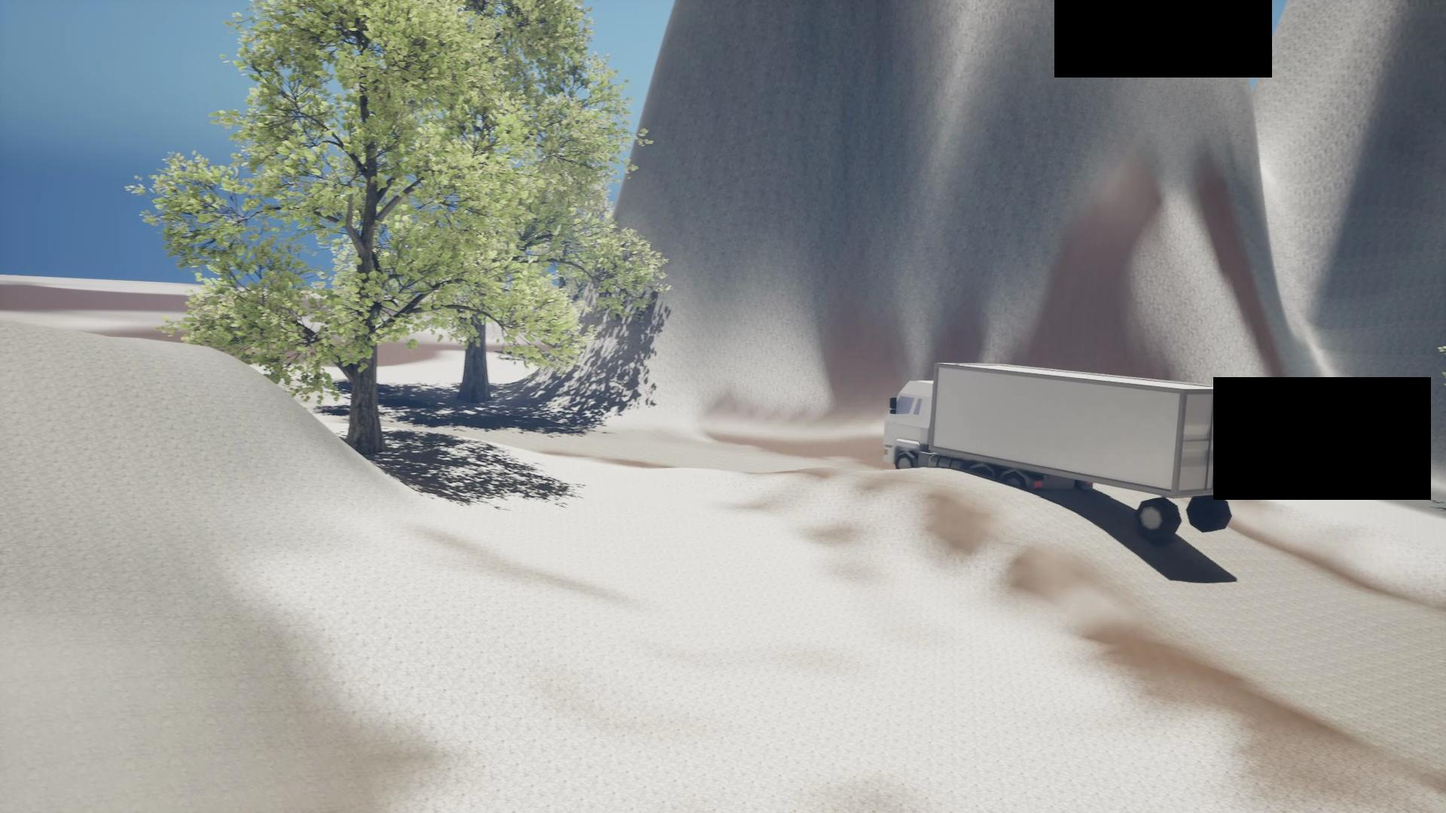truck: (884, 364, 1253, 498)
